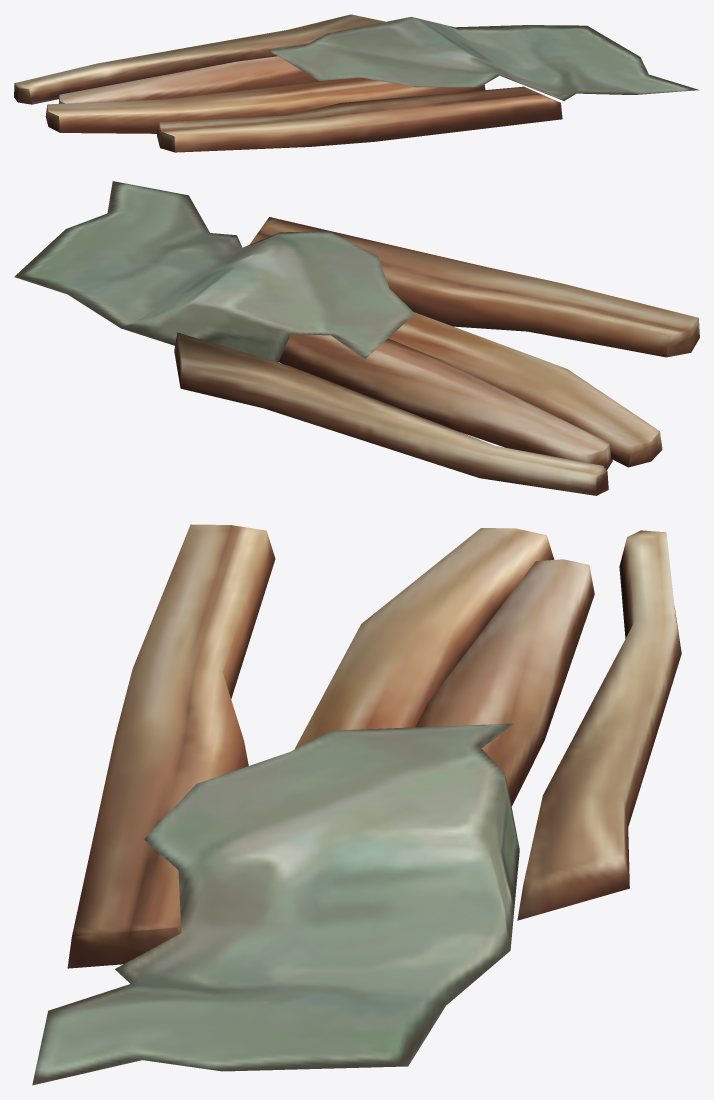
The model's file is WuJian01.FBX.
The picture shows the model from 3 angles, top to bottom: view 1: azimuth 30°, elevation 25°; view 2: azimuth 150°, elevation 25°; view 3: azimuth 270°, elevation 25°; orthographic projection. The views are drawn at different scales.
Parts seen in each view (by area): view 1: WuJian01; view 2: WuJian01; view 3: WuJian01.
Boxes of the visible parts, x1,y1,x2,y2 form: WuJian01: (14,14,698,152); WuJian01: (14,181,699,495); WuJian01: (32,524,681,1085).
Size of the model in its own units: 145 by 12.62 by 77.04.
